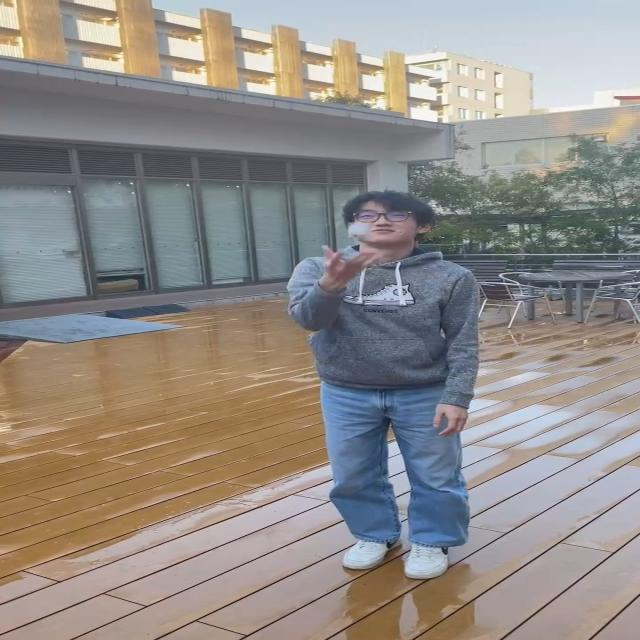paper: (351, 223, 368, 236)
